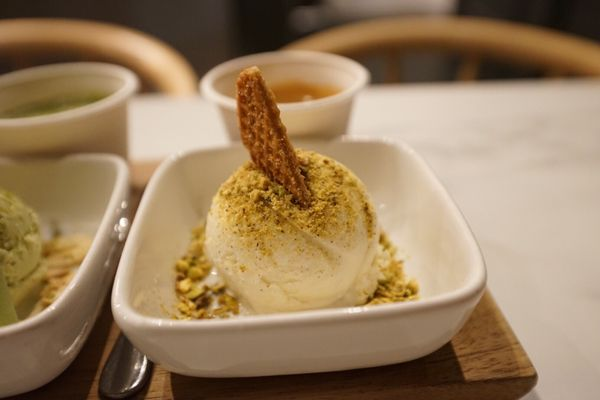pizza: (0, 59, 139, 161)
sushi: (109, 139, 494, 380), (0, 151, 133, 395), (191, 48, 371, 138), (0, 59, 142, 158), (252, 48, 371, 137)
